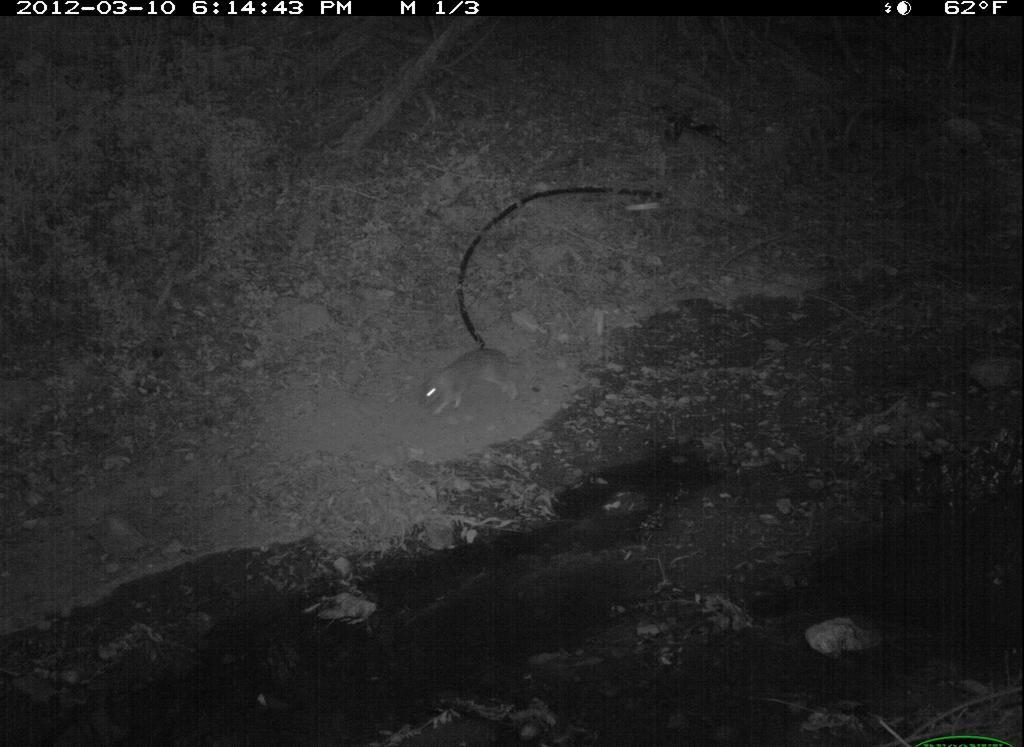rabbit: (405, 337, 525, 429)
